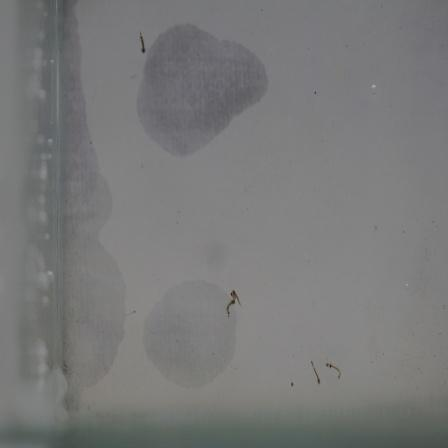Jentik-Nyamuk: (306, 354, 346, 392), (223, 286, 245, 321), (134, 24, 153, 58)
